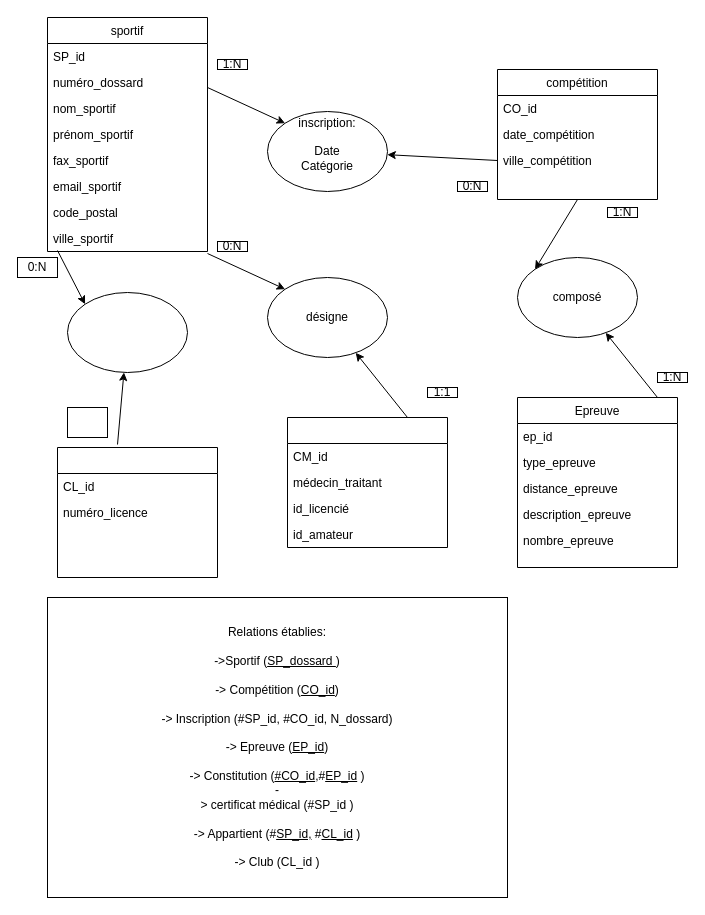
This 705x915 diagram has some shape labels left out. The shapes that lost their labels are listed below. From the top down, each one's box as (x1, y1, x2, y2) in pixels, then its label:
(66, 292, 188, 372): appartient: numéro_licence
(66, 406, 108, 438): N:N
(286, 416, 448, 548): médical
(56, 446, 218, 578): club
